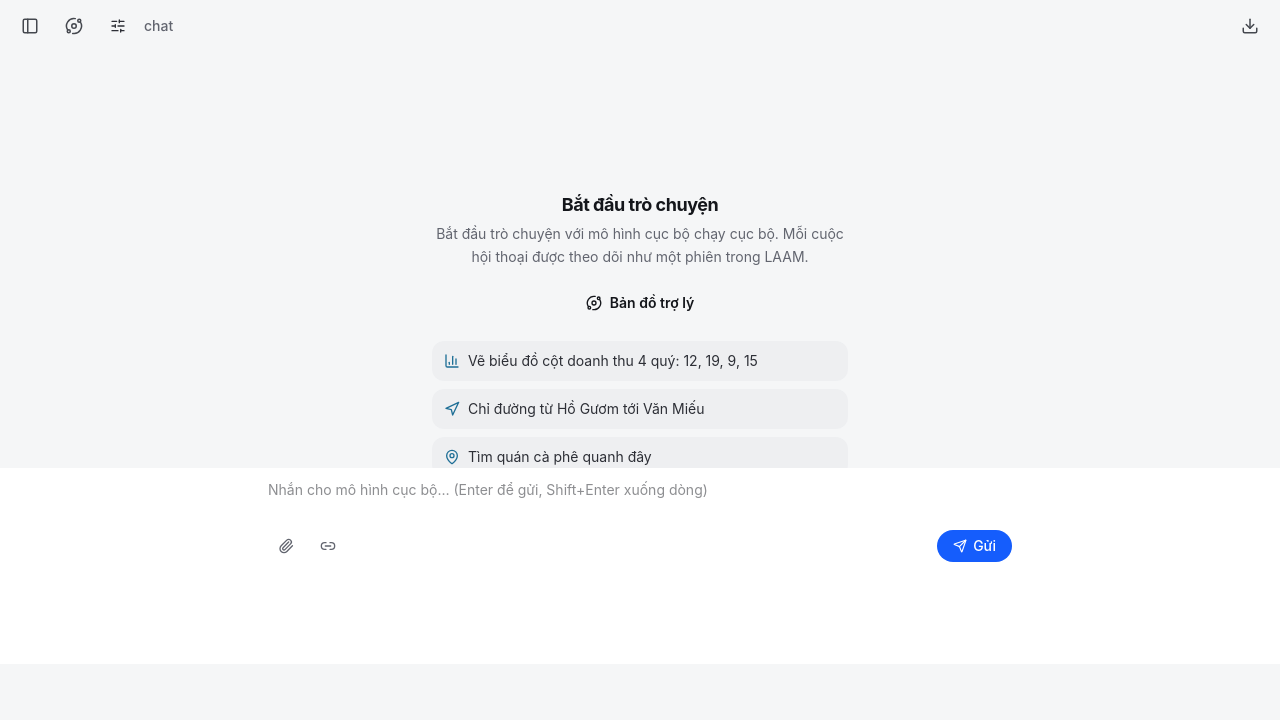
Test case: bảng chỉ hiện 1 lần dù frame view được stream lặp lại theo từng chunk
The image size is (1280, 720).
Replace the text in the text box named "Soạn tin nhắn" with "hi": (640, 500) [268,480,1012,520]
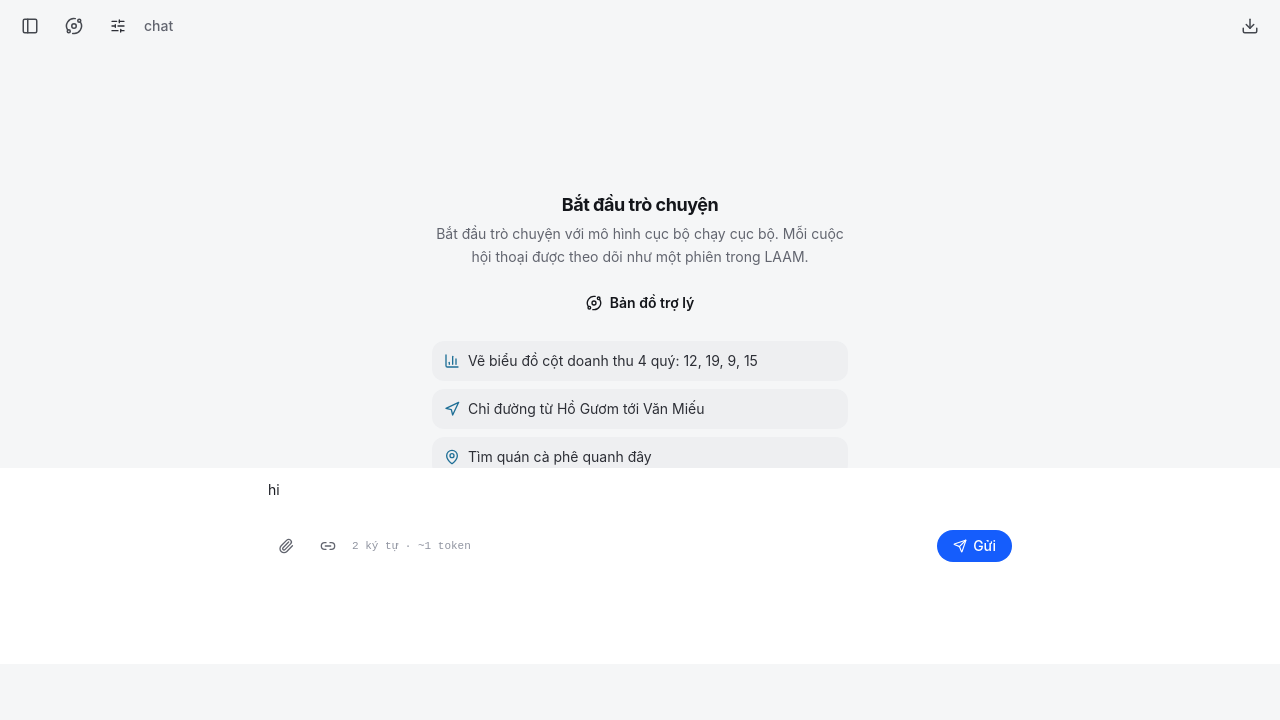
Click the button with aria-label "Gửi tin nhắn": (975, 546) [937,530,1012,562]
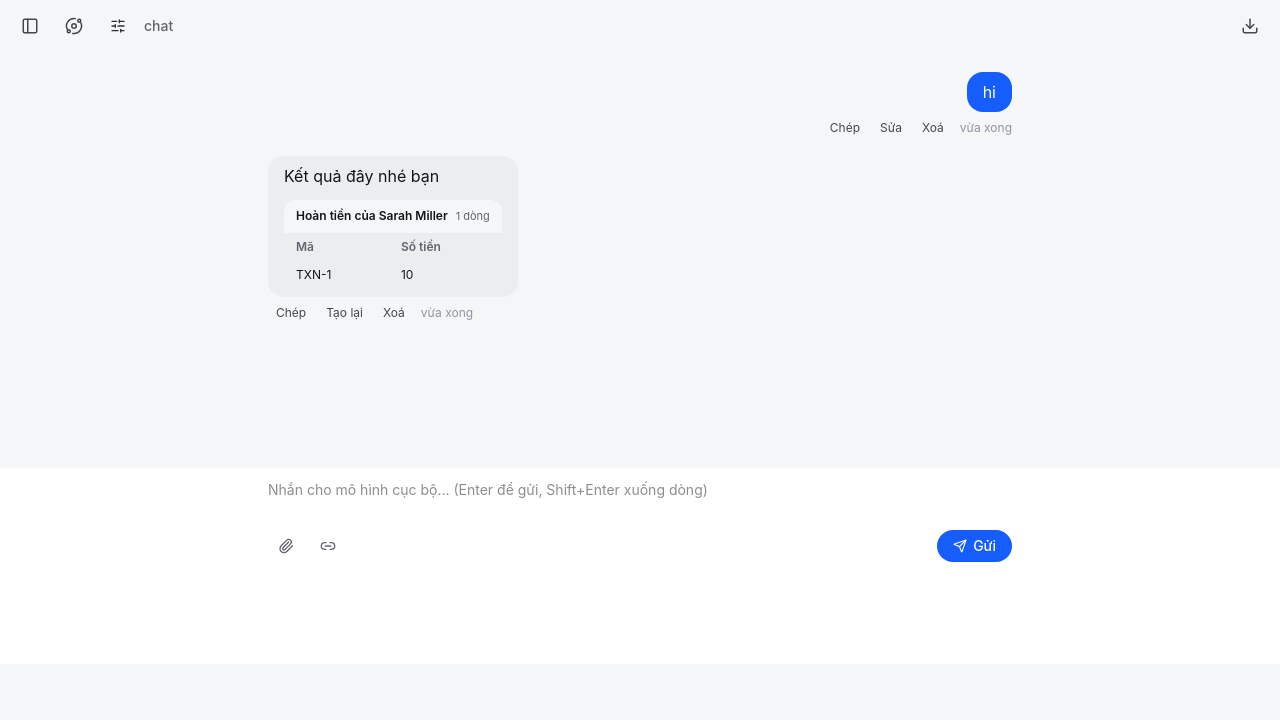
Check: the text "Hoàn tiền của Sarah Miller" is shown, box [296,208,448,224]
